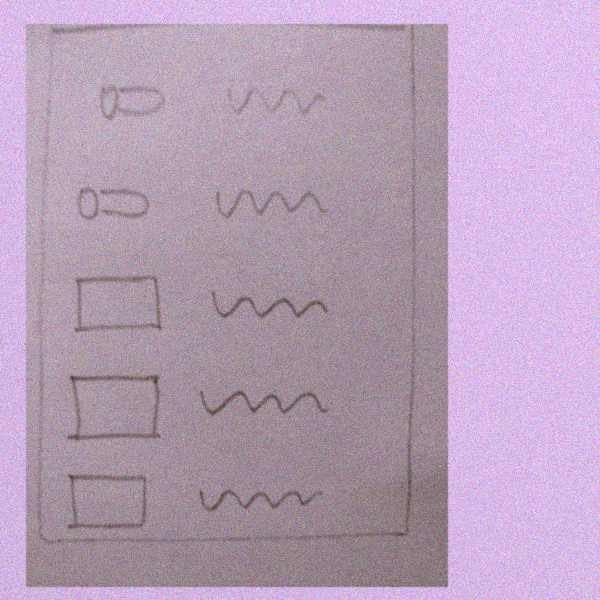switch: (72, 178, 152, 226), (89, 77, 169, 124)
text: (193, 381, 333, 424), (189, 474, 329, 517), (207, 280, 329, 324), (211, 181, 329, 223), (218, 82, 327, 119)
text_input: (62, 370, 166, 443), (66, 273, 172, 338), (60, 470, 150, 535)
